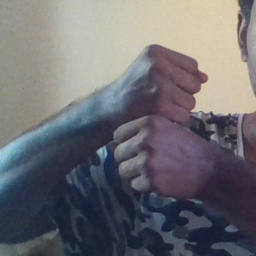G: (110, 43, 217, 205)
